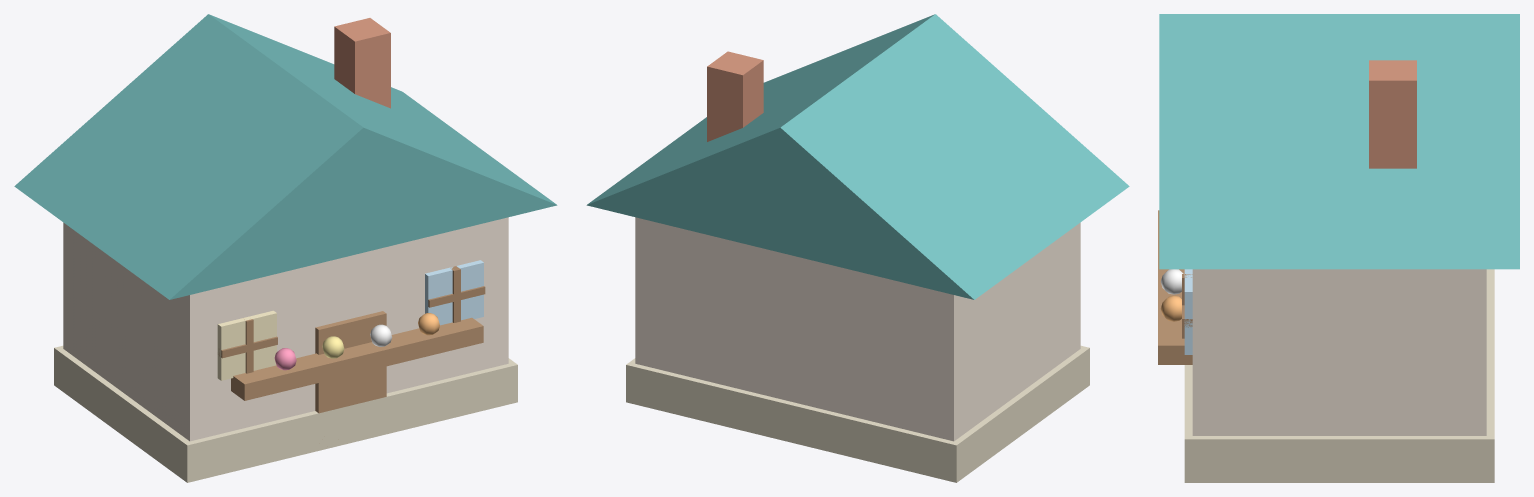
Rendered from rumahw5.glb.
3 views of the same model, side by side, from view 1: azimuth 30°, elevation 25°; view 2: azimuth 150°, elevation 25°; view 3: azimuth 270°, elevation 25° (orthographic). The views are drawn at different scales.
Parts seen in each view (by area): view 1: rumahw5; view 2: rumahw5; view 3: rumahw5.
Part boxes in pixels (<box>): rumahw5: <box>14,14,557,482</box>; rumahw5: <box>586,14,1129,482</box>; rumahw5: <box>1158,14,1519,482</box>.
Size of the model in its own units: 1.95 by 1.55 by 1.36.
